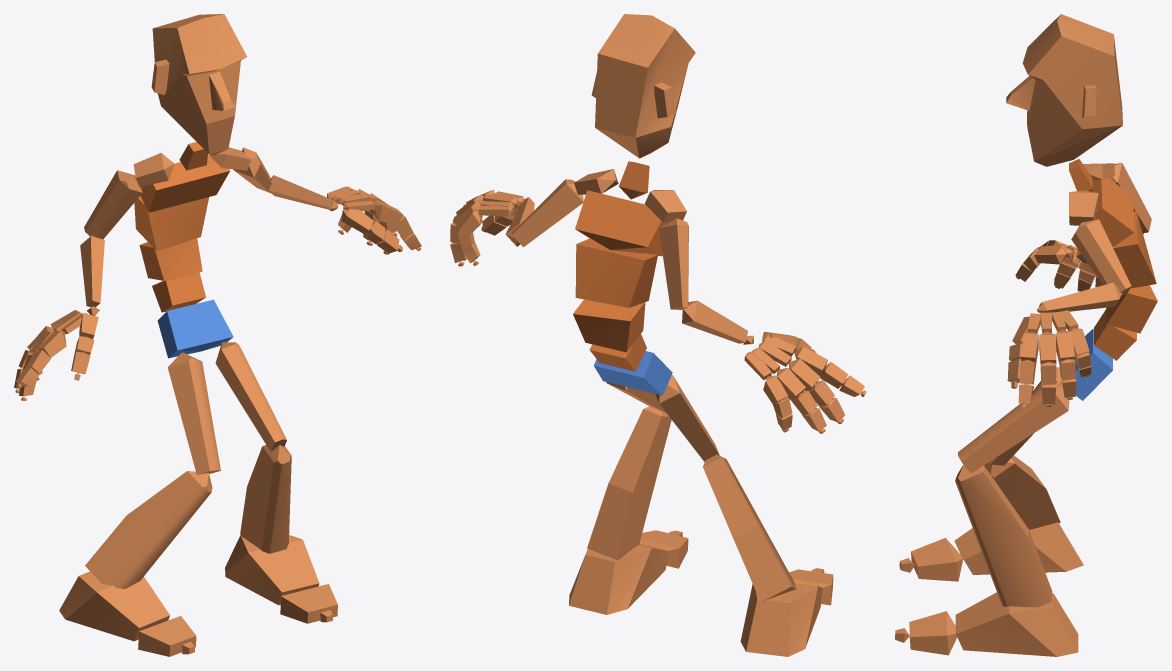
The model's file is prueba234.obj.
3 views of the same model, side by side, from view 1: azimuth 30°, elevation 25°; view 2: azimuth 150°, elevation 25°; view 3: azimuth 270°, elevation 25° (orthographic). The views are drawn at different scales.
Visible parts, largest first — view 1: BOPED_Head, BOPED_R_leg, BOPED_R_foot, BOPED_L_leg, BOPED_R_foot01, BOPED_R_legup, Bone01, BOPED_L_legup, Bone04, Bone05, BOPED_R_arm_upper, Bone03 (+8 smaller); view 2: BOPED_Head, BOPED_L_leg, BOPED_R_leg, BOPED_R_foot01, BOPED_R_foot, Bone04, Bone05, Bone03, BOPED_R_arm_upper, BOPED_R_legup, BOPED_L_arm_upper, Bone01 (+7 smaller); view 3: BOPED_Head, BOPED_L_leg, BOPED_R_foot01, BOPED_L_legup, BOPED_R_leg, BOPED_R_foot, BOPED_L_arm_upper, Bone05, BOPED_R_foot_toe01, BOPED_R_foot_toe04, Bone04, Bone03 (+12 smaller).
Boxes of the visible parts, x1,y1,x2,y2 form: BOPED_Head: (151, 14, 247, 155); BOPED_R_leg: (85, 471, 212, 588); BOPED_R_foot: (59, 571, 169, 641); BOPED_L_leg: (240, 445, 291, 553); BOPED_R_foot01: (225, 535, 319, 605); BOPED_R_legup: (167, 352, 220, 474); Bone01: (157, 299, 233, 358); BOPED_L_legup: (215, 342, 286, 451); Bone04: (134, 196, 208, 251); Bone05: (140, 154, 229, 212); BOPED_R_arm_upper: (84, 170, 142, 239); Bone03: (139, 238, 202, 280); BOPED_Head: (591, 14, 695, 158); BOPED_L_leg: (587, 406, 671, 560); BOPED_R_leg: (703, 454, 796, 602); BOPED_R_foot01: (569, 544, 669, 614); BOPED_R_foot: (740, 583, 822, 656); Bone04: (575, 238, 657, 307); Bone05: (575, 190, 668, 256); Bone03: (573, 299, 645, 352); BOPED_R_arm_upper: (659, 218, 688, 309); BOPED_R_legup: (655, 375, 719, 461); BOPED_L_arm_upper: (511, 179, 583, 247); Bone01: (594, 351, 672, 395); BOPED_Head: (1006, 14, 1122, 166); BOPED_L_leg: (955, 465, 1052, 607); BOPED_R_foot01: (955, 592, 1078, 656); BOPED_L_legup: (958, 382, 1069, 472); BOPED_R_leg: (984, 455, 1060, 529); BOPED_R_foot: (954, 522, 1083, 574); BOPED_L_arm_upper: (1071, 219, 1131, 295); Bone05: (1091, 178, 1134, 246); BOPED_R_foot_toe01: (911, 538, 963, 581); BOPED_R_foot_toe04: (909, 611, 957, 655); Bone04: (1113, 211, 1156, 288); Bone03: (1106, 285, 1157, 333).
Bounding box in the file's own units: 130 × 177 × 70.78.
